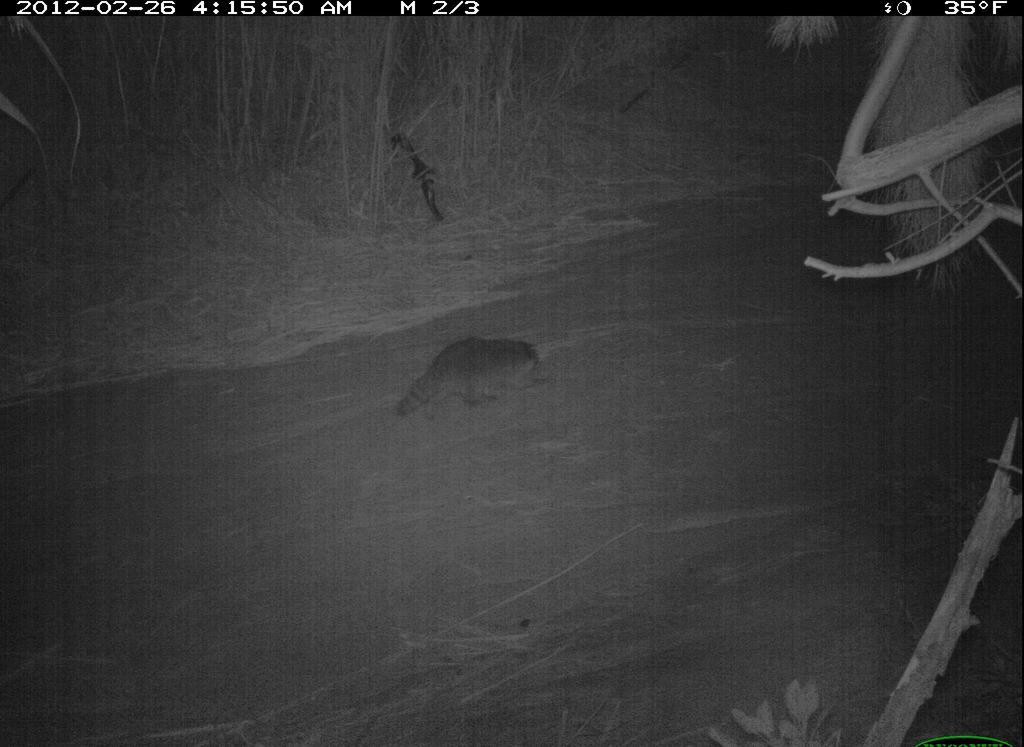raccoon: (393, 331, 556, 427)
